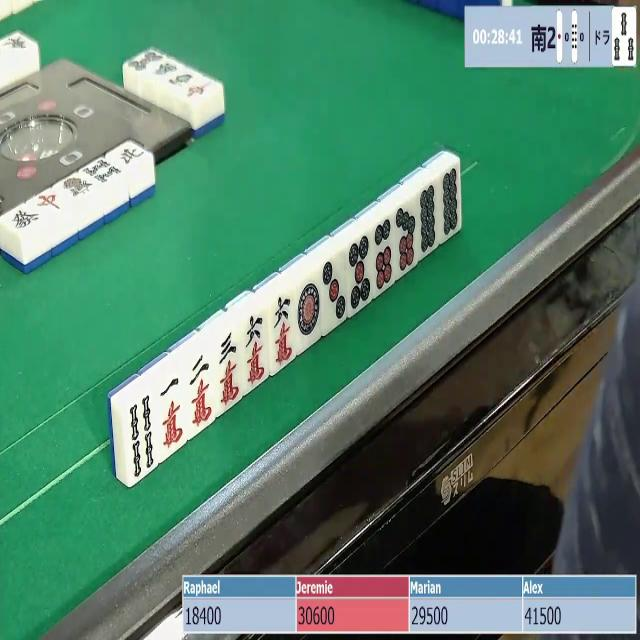1C: (156, 372, 190, 456)
1D: (295, 273, 324, 348)
2C: (186, 356, 215, 430)
3B: (614, 9, 636, 66)
3C: (214, 329, 246, 411)
3D: (319, 254, 349, 331)
4B: (125, 392, 160, 486)
5D: (346, 235, 374, 315)
6C: (270, 291, 300, 370), (241, 313, 271, 390)
6D: (366, 215, 399, 295)
7D: (389, 200, 419, 276)
8D: (416, 183, 441, 256), (440, 164, 464, 239)
